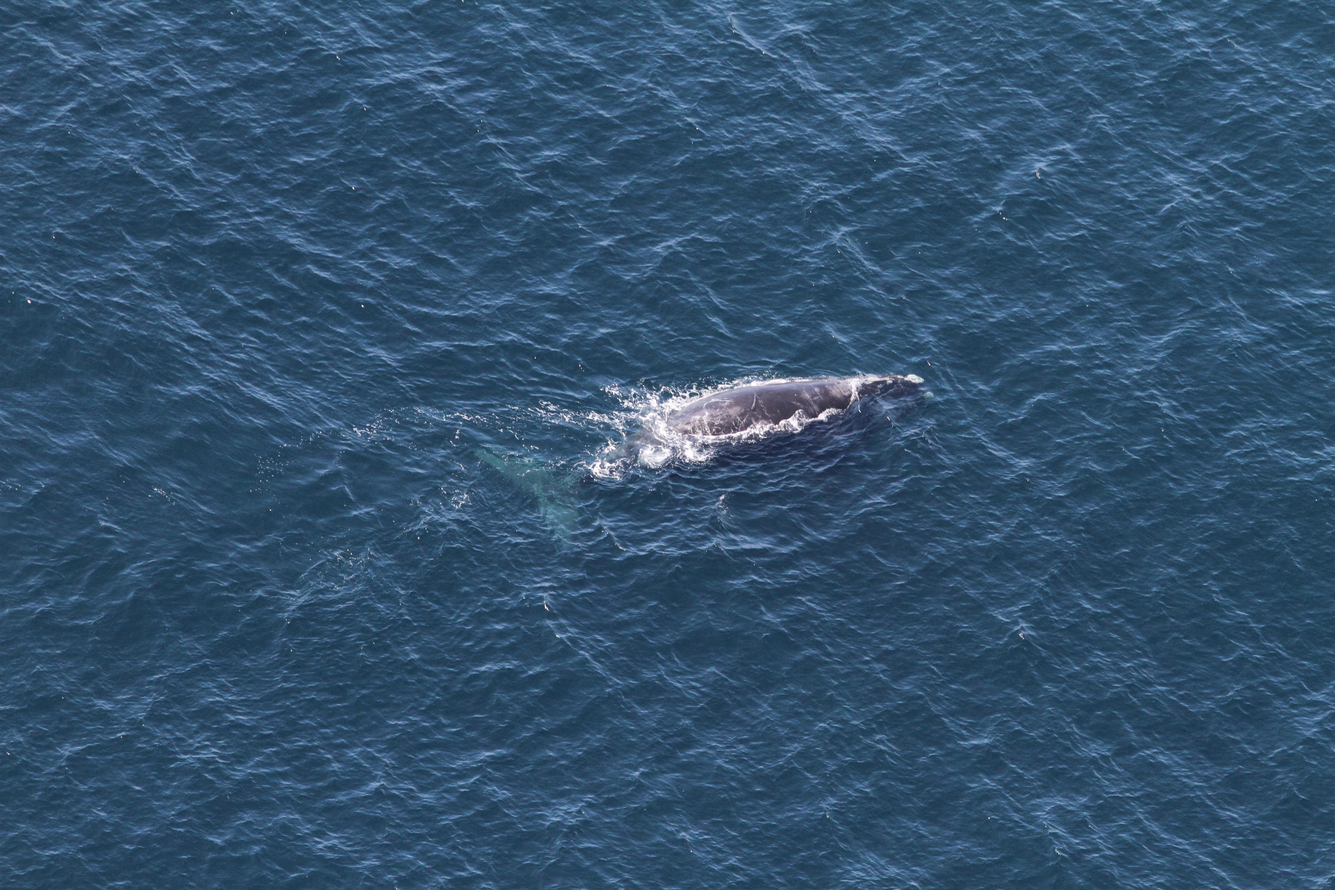whale: (464, 367, 933, 561)
